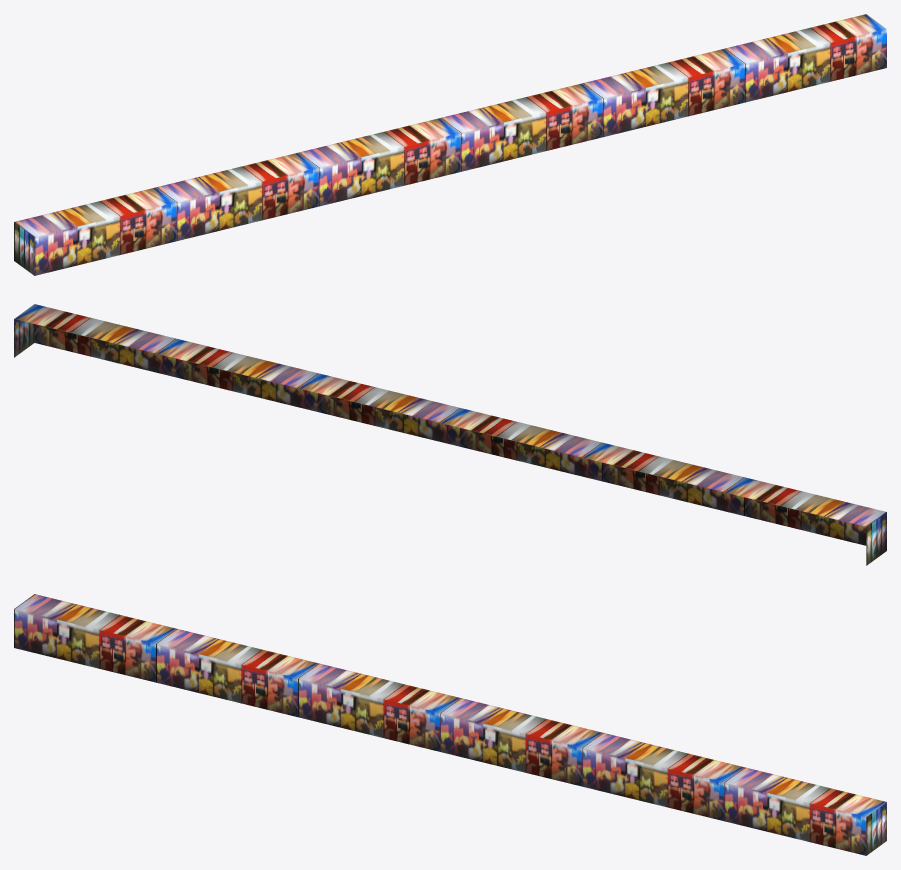
The model's file is Objects_On_Shelf.fbx.
3 renders of one model, top to bottom at view 1: azimuth 30°, elevation 25°; view 2: azimuth 150°, elevation 25°; view 3: azimuth 330°, elevation 25°, orthographic.
Parts seen in each view (by area): view 1: ObjectsOnShelf; view 2: ObjectsOnShelf; view 3: ObjectsOnShelf.
Part boxes in pixels (left/top/right/bottom): ObjectsOnShelf: left=14, top=14, right=886, bottom=275; ObjectsOnShelf: left=14, top=304, right=886, bottom=565; ObjectsOnShelf: left=14, top=594, right=886, bottom=855.
Bounding box in the file's own units: 9.02 × 0.3937 × 0.377.
